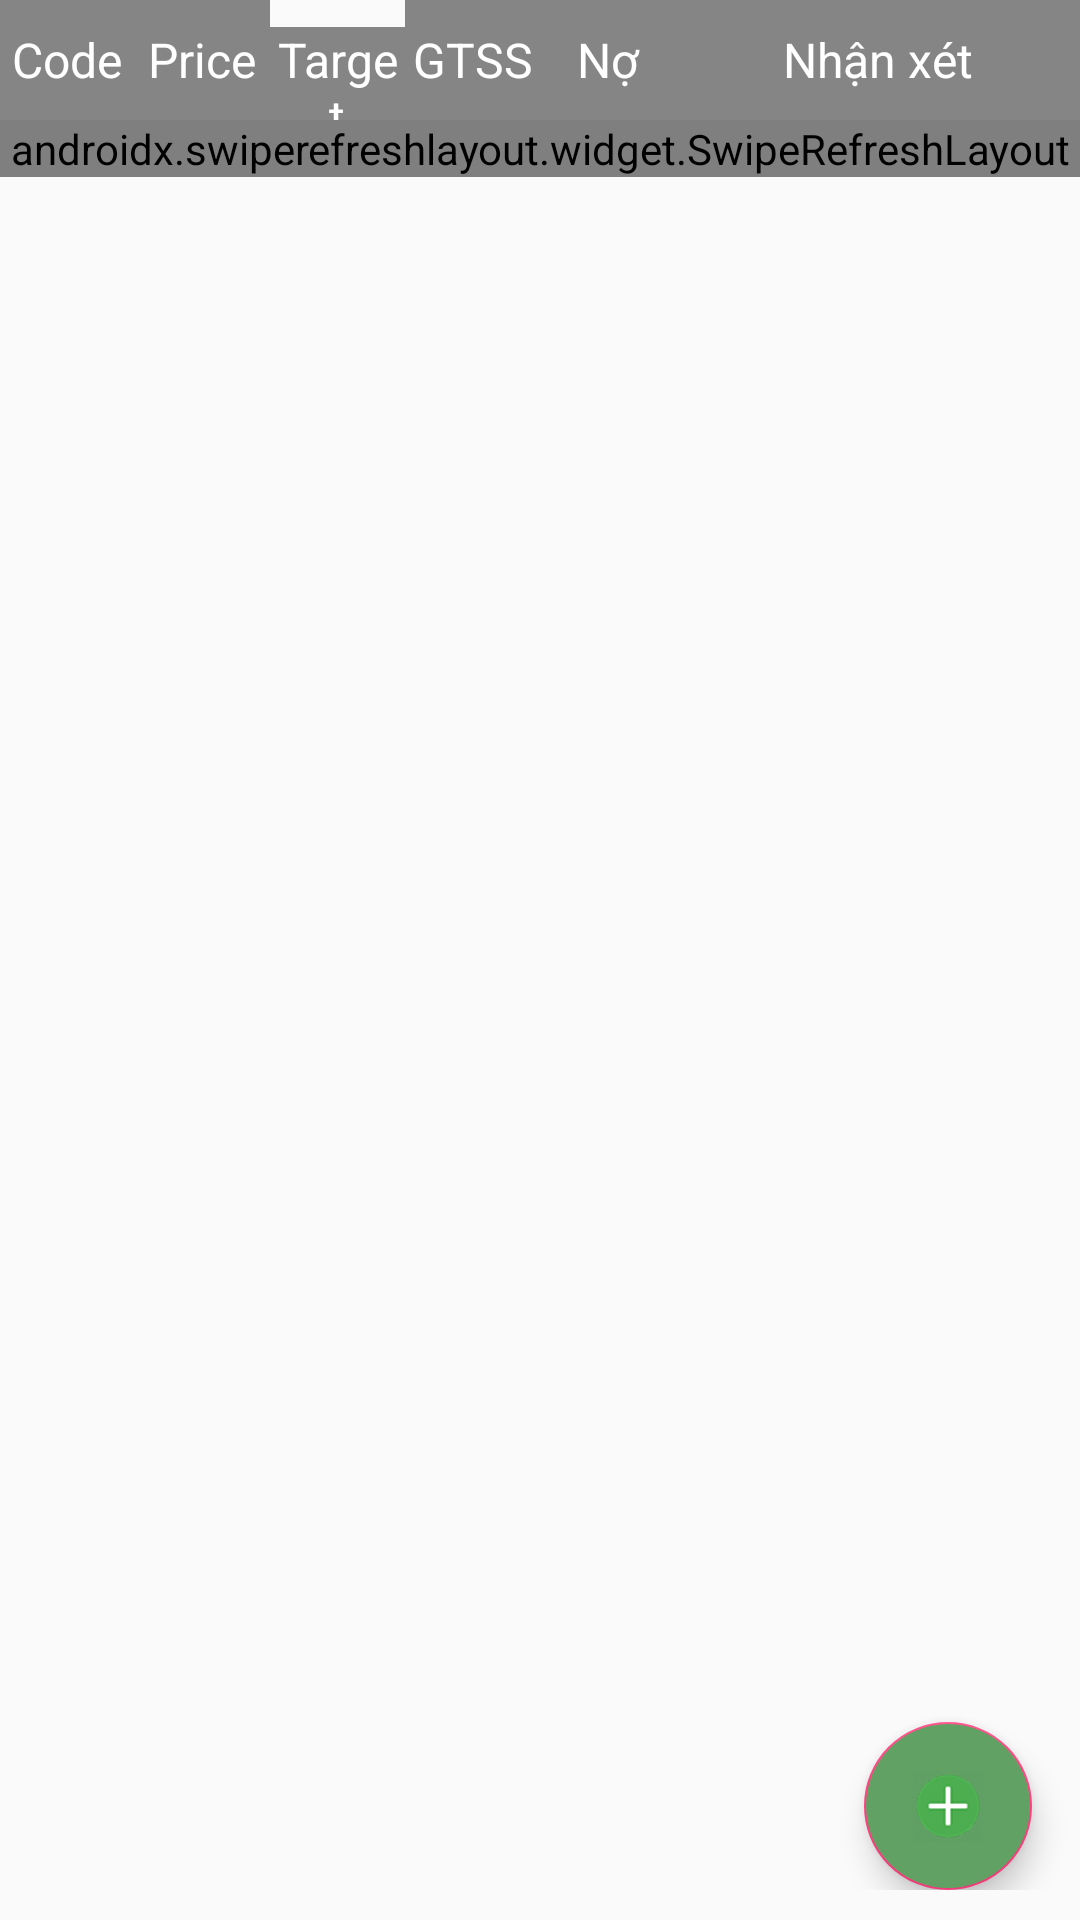

Point at icon controls on the screen. Image size 1080*1920, points as [x,y].
floating plus: [948,1806]
